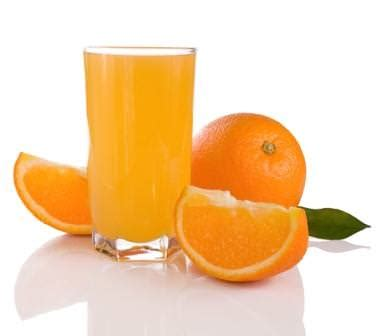orange: (184, 108, 310, 206)
